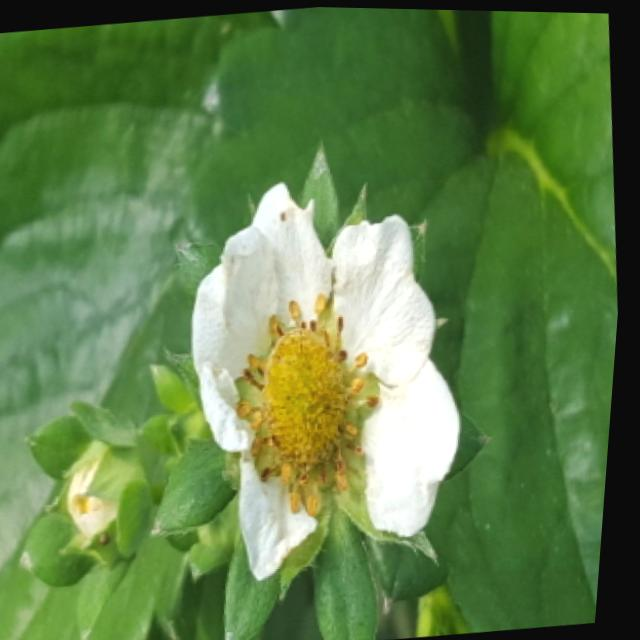Blossom Blight: (235, 289, 391, 518)
